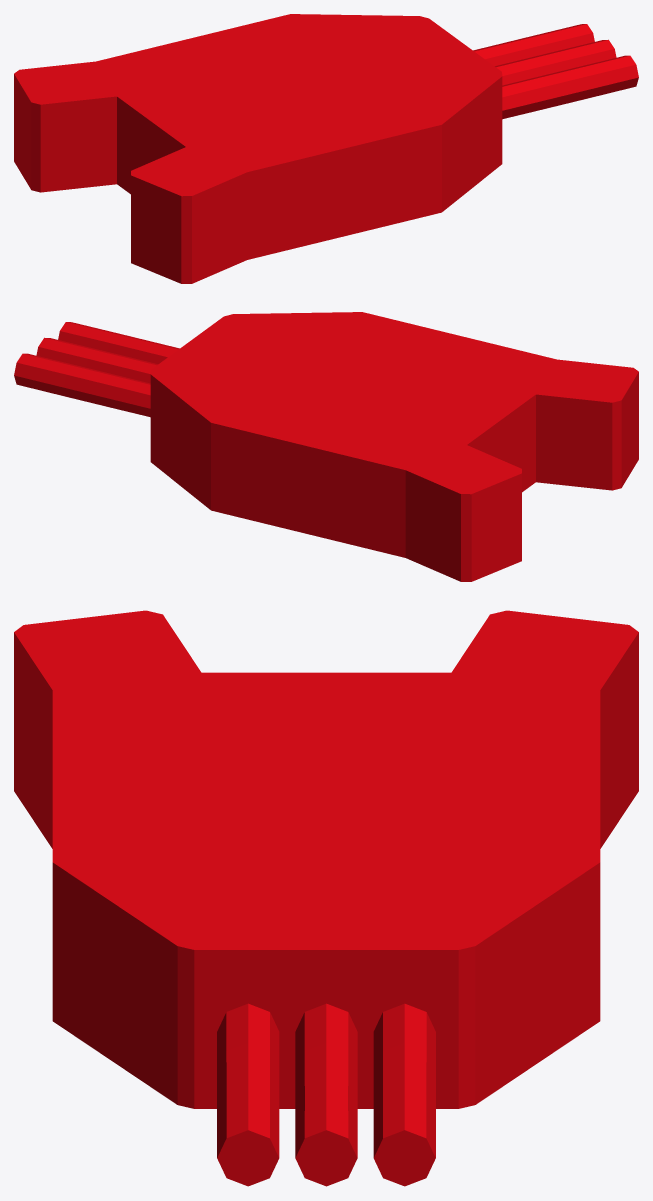
The model's file is weapon_2.fbx.
3 renders of one model, top to bottom at view 1: azimuth 30°, elevation 25°; view 2: azimuth 150°, elevation 25°; view 3: azimuth 270°, elevation 25°, orthographic. The views are drawn at different scales.
Visible parts, largest first — view 1: weapon_2; view 2: weapon_2; view 3: weapon_2.
Part boxes in pixels (x1,y1,x2,y2): weapon_2: (14,14,638,283); weapon_2: (14,312,638,581); weapon_2: (14,610,638,1186).
Bounding box in the file's own units: 141 × 22.41 × 79.86.
